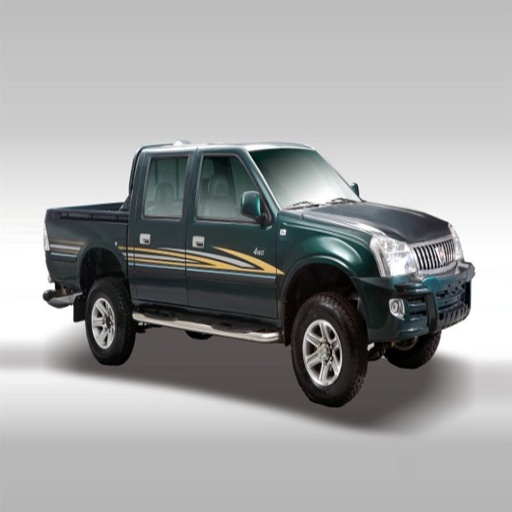front_bumper: (355, 260, 465, 350)
front_right_door: (189, 151, 275, 317)
front_right_light: (370, 231, 425, 279)
trunk: (52, 204, 124, 297)
